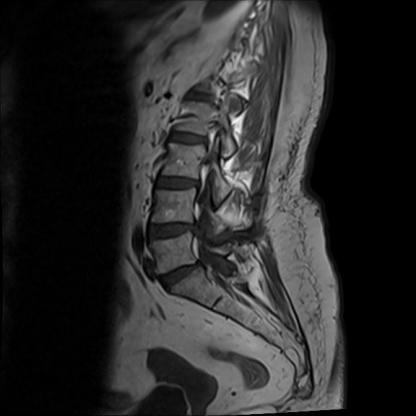Disc Bulgerotation: (157, 264, 207, 284), (151, 222, 201, 240)
